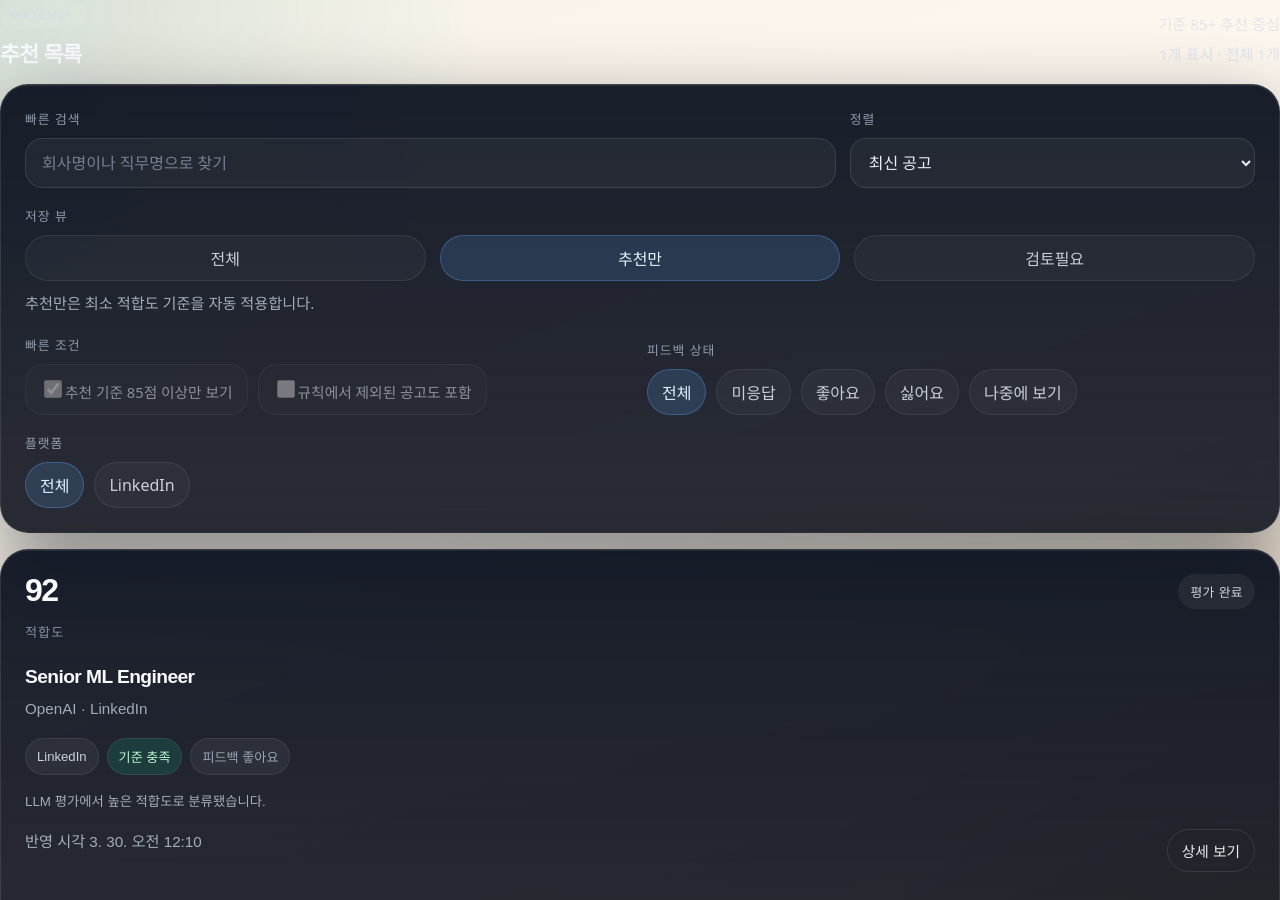
Test: RecommendationBoard › saves feedback actions from the detail panel
Click the button with aria-label "Senior ML Engineer 상세 보기" at (640, 723), box x1=25 y1=574 x2=1255 y2=872
(page scrolled)
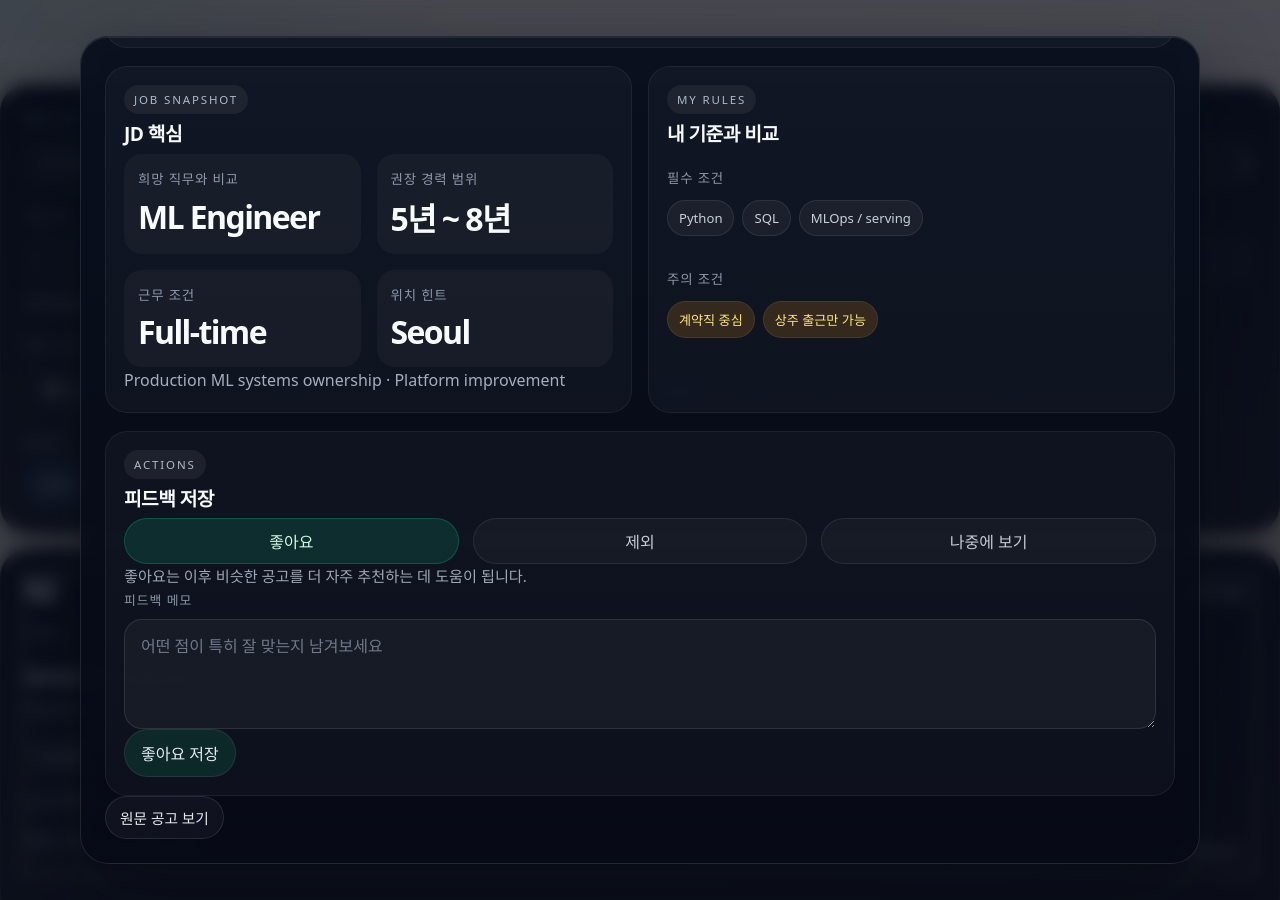
Click the button "나중에 보기" at (989, 541), box x1=821 y1=518 x2=1156 y2=564
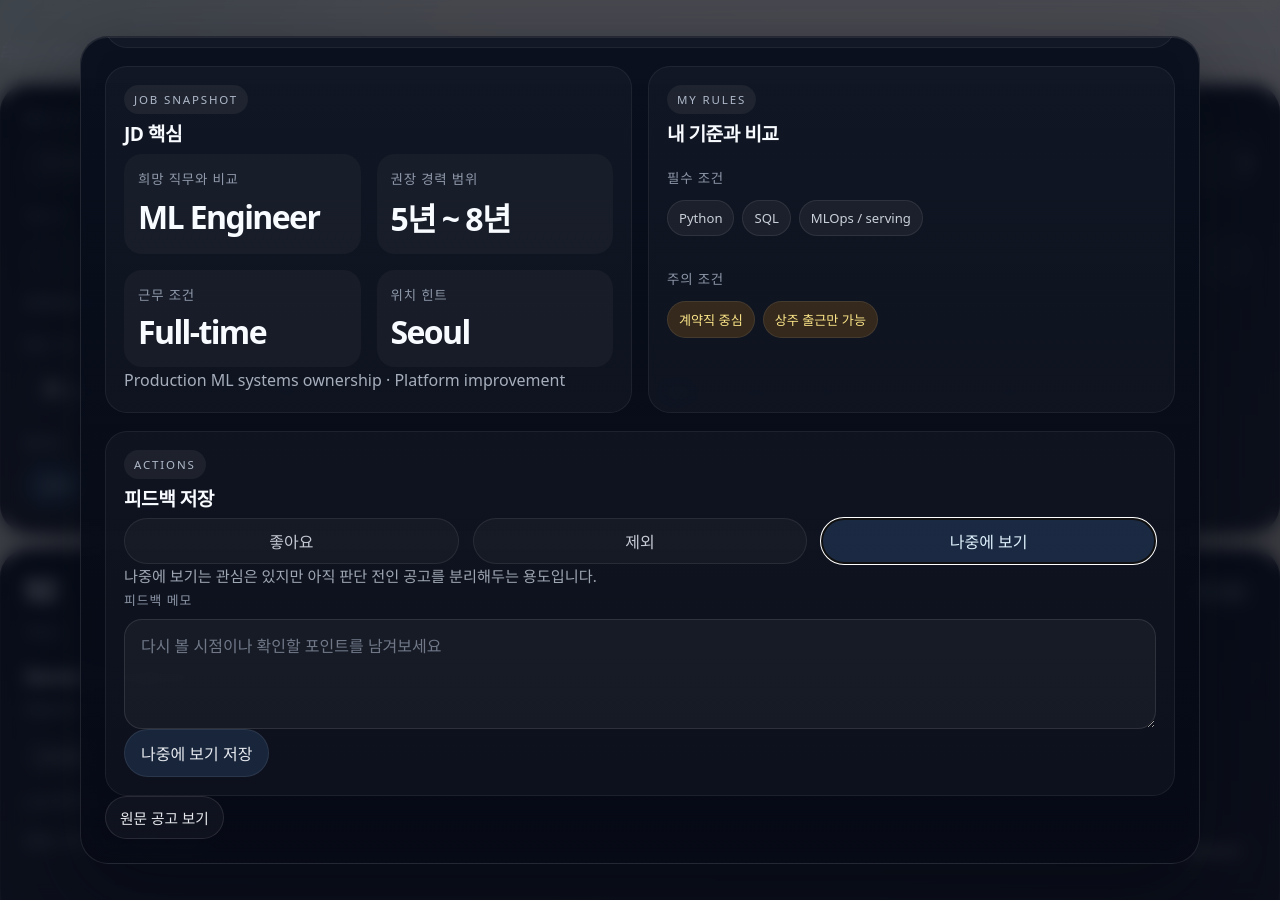
Result: the text "나중에 보기는 관심은 있지만 아직 판단 전인 공고를 분리해두는 용도입니다." is shown at x1=124 y1=566 x2=597 y2=586
Type "next week" into the text box labelled "피드백 메모" at (640, 674), box x1=124 y1=619 x2=1156 y2=729
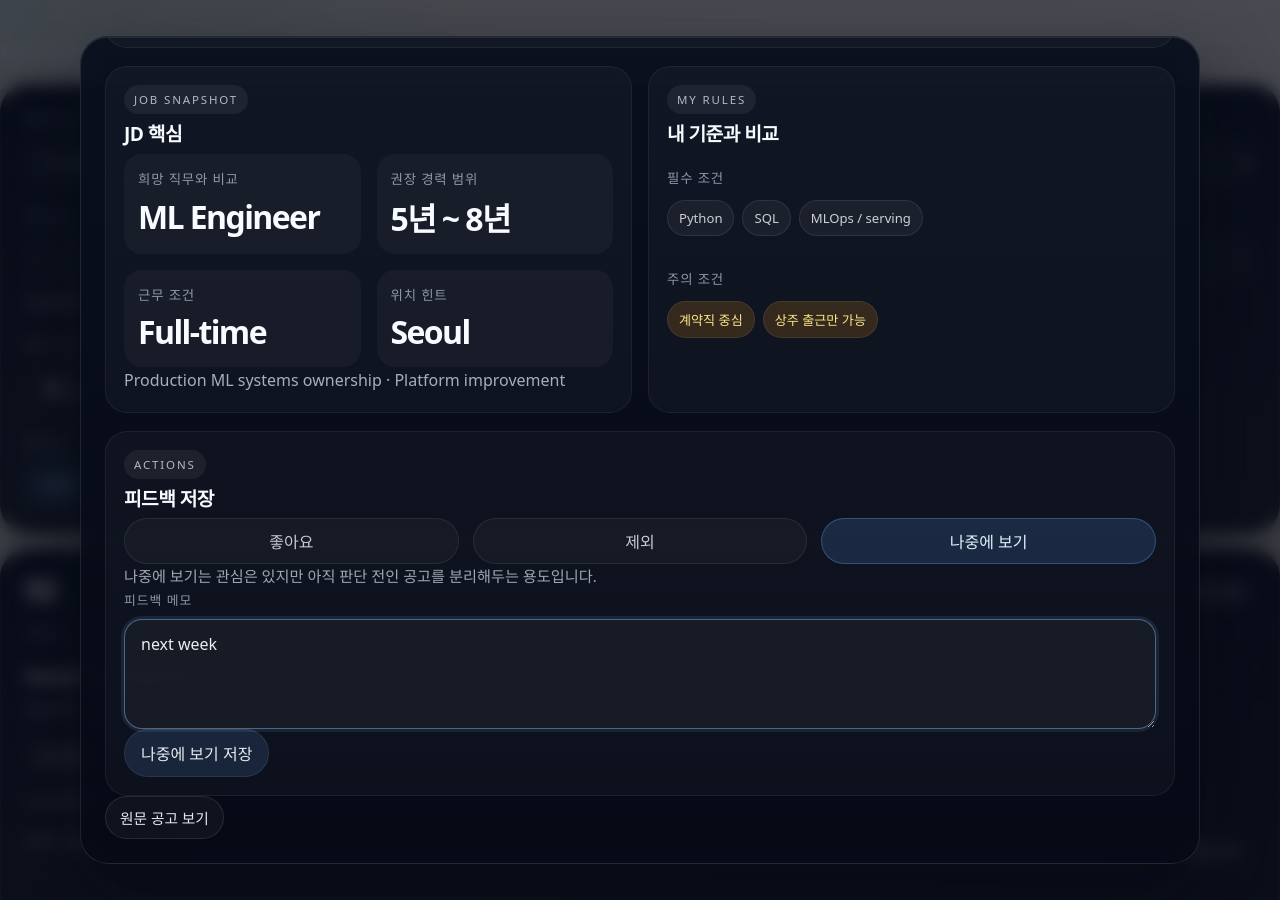
Click the button "나중에 보기 저장" at (197, 753), box x1=124 y1=729 x2=269 y2=777
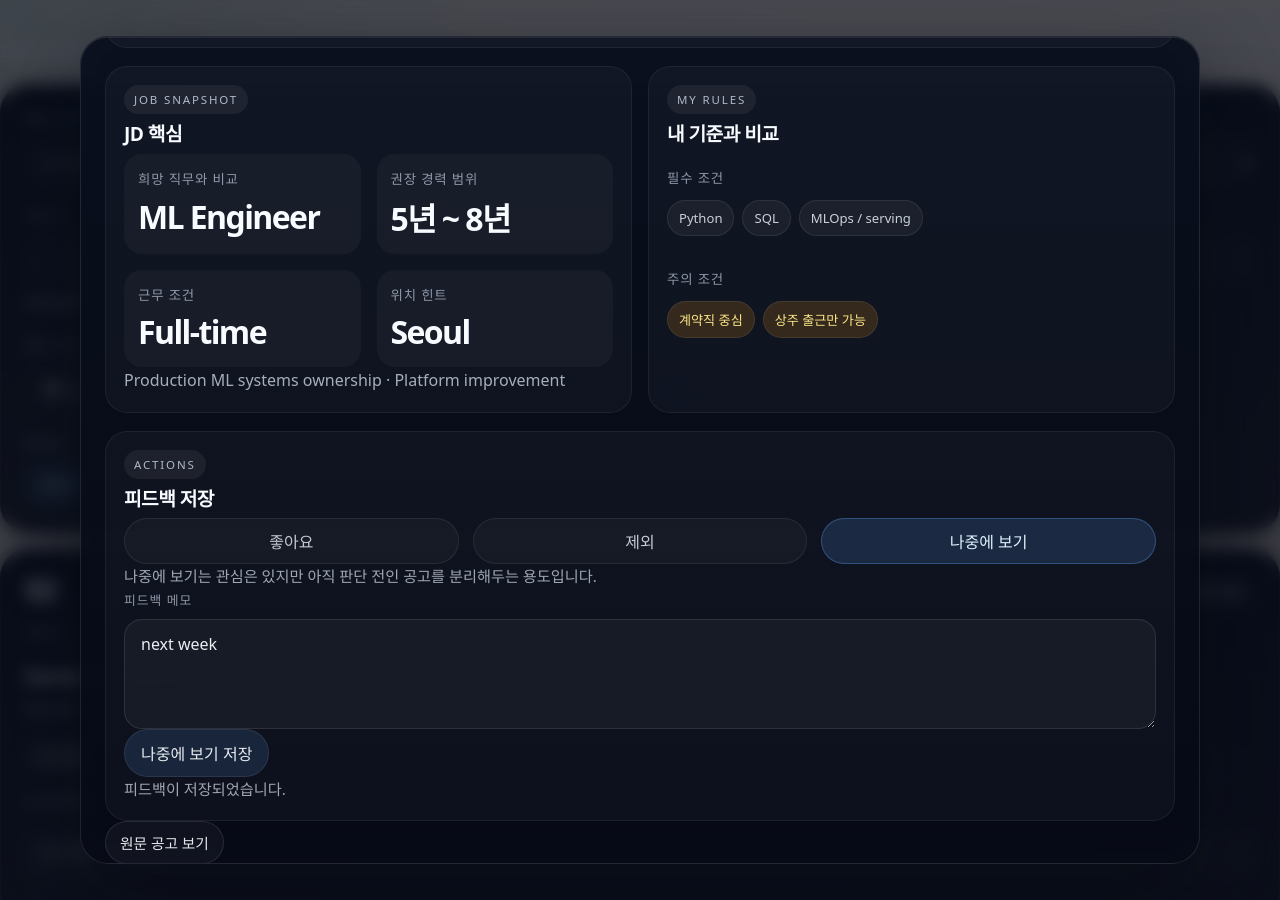
Expected: the text "피드백 나중에 보기" is shown, x1=190 y1=738 x2=318 y2=775
Result: the text "피드백이 저장되었습니다." is shown at x1=124 y1=779 x2=286 y2=799
